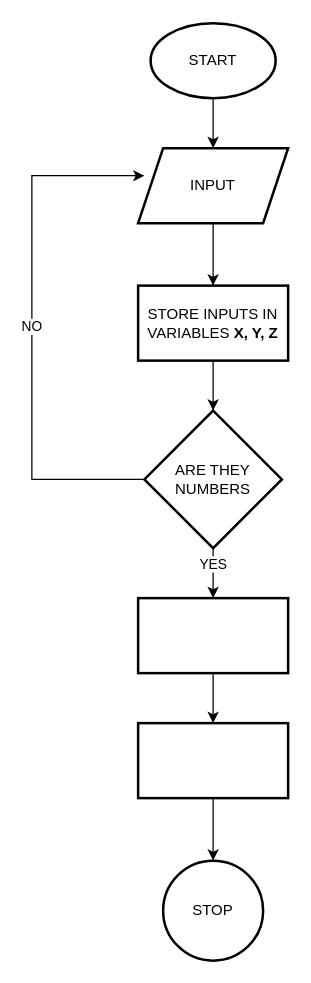
The diagram is 311 pixels wide and 983 high, and some of its shapes have lost their labels. The shapes that lost their labels are listed below. From the top down, each one's centre as x and y in pixels, then its label:
At [212,635]: "SQUARE ALL INPUTS X, Y, Z".
At [212,760]: "ADD SQUARED INPUTS".
